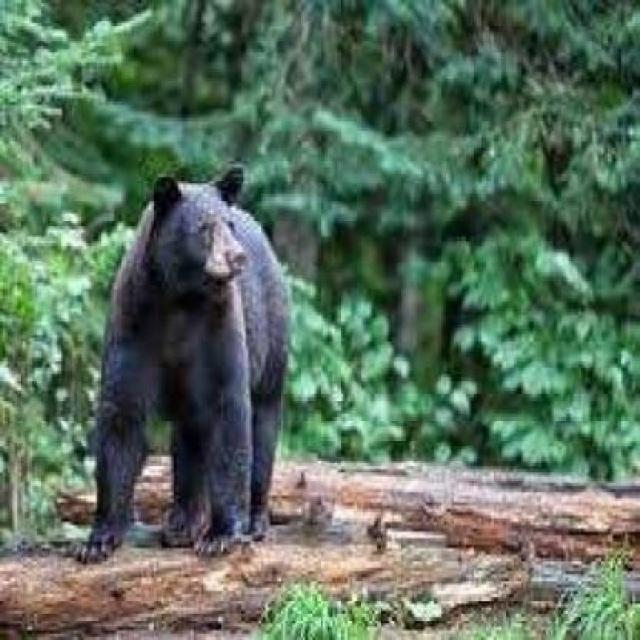Bear: (68, 150, 361, 572)
